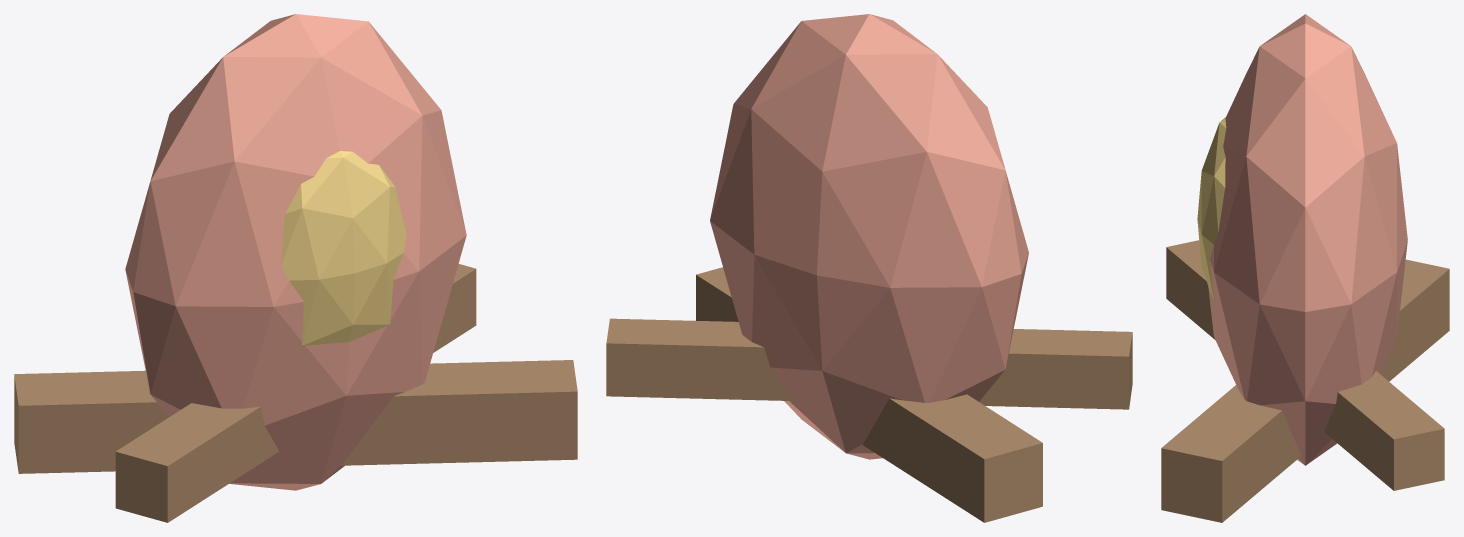
The model's file is cozy-home-interiors-fire-glow-a2bf71e3.glb.
The picture shows the model from 3 angles, left to right: view 1: azimuth 30°, elevation 25°; view 2: azimuth 150°, elevation 25°; view 3: azimuth 270°, elevation 25°; orthographic projection. The views are drawn at different scales.
Visible parts, largest first — view 1: fire-glow; view 2: fire-glow; view 3: fire-glow.
Part boxes in pixels (bbox=[...]): fire-glow: bbox=[14, 14, 577, 522]; fire-glow: bbox=[606, 14, 1132, 522]; fire-glow: bbox=[1161, 14, 1449, 522].
Bounding box in the file's own units: 0.4268 × 0.42 × 0.2537.
